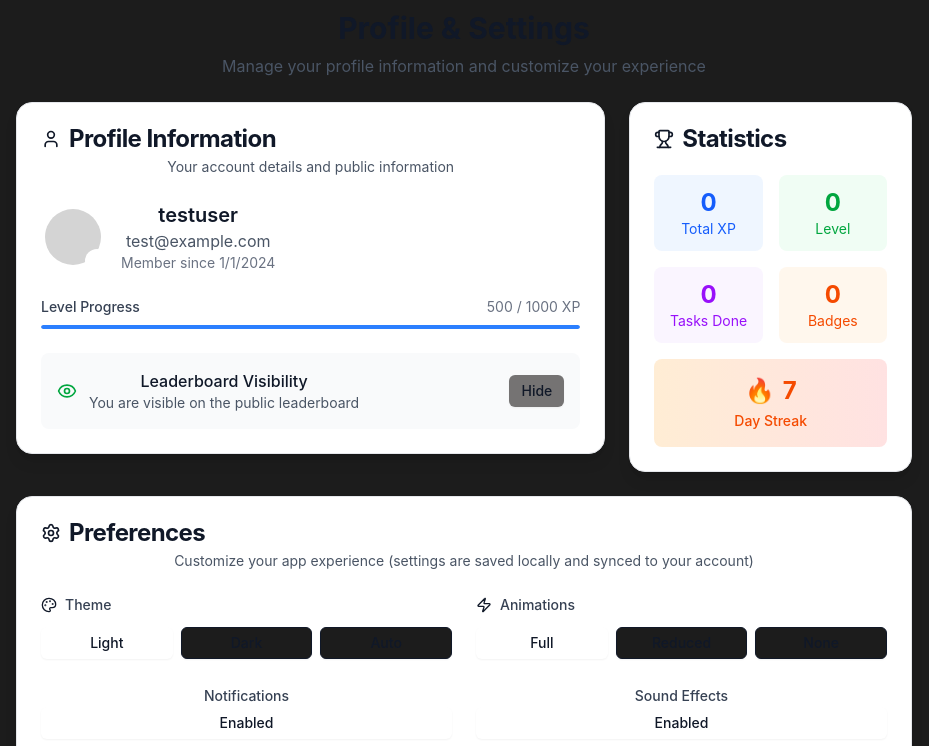
it: Profile › Loading States › shows loading state during updates
Step 1. Click the button "Hide" → [537, 391], box top-left (510, 375), bottom-right (564, 407)
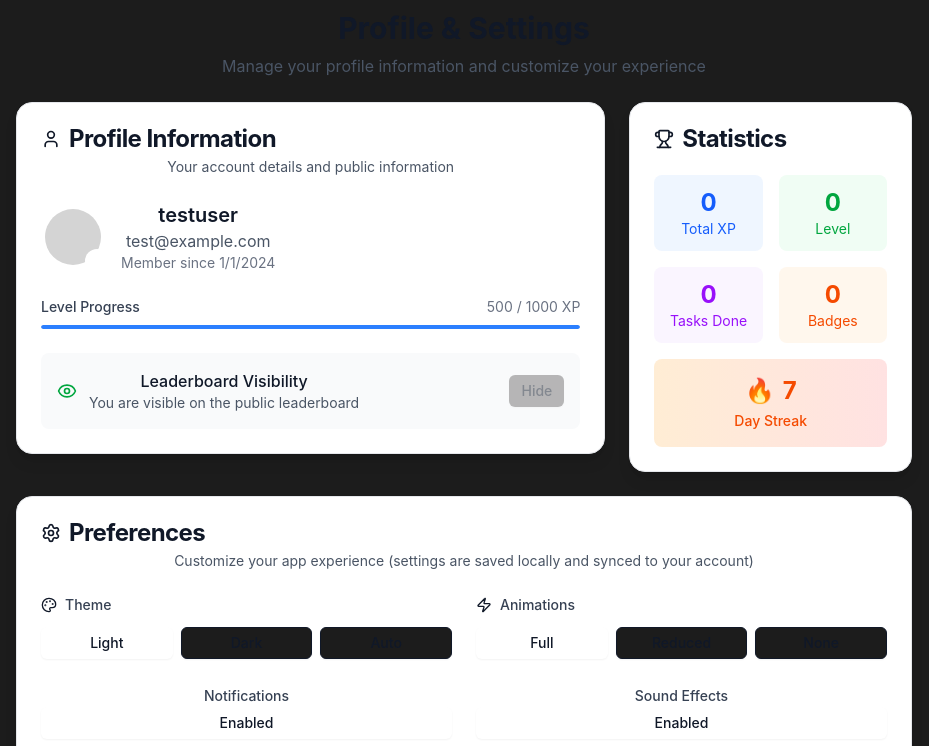
Result: the button "Hide" is disabled at top-left (510, 375), bottom-right (564, 407)
